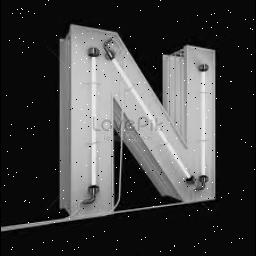n: (50, 18, 228, 224)
